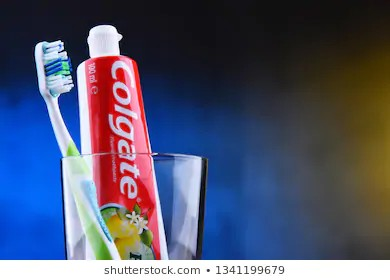toothbrush: (33, 33, 84, 203)
